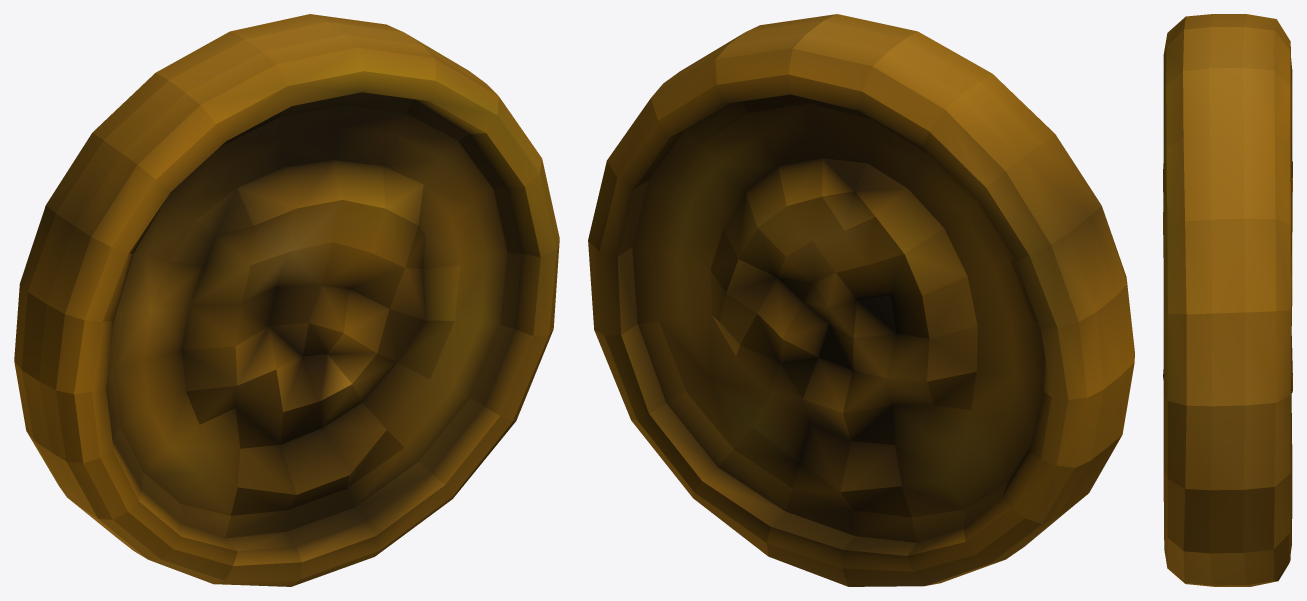
The model's file is coin.fbx.
3 renders of one model, left to right at view 1: azimuth 30°, elevation 25°; view 2: azimuth 150°, elevation 25°; view 3: azimuth 270°, elevation 25°, orthographic. The views are drawn at different scales.
Visible parts, largest first — view 1: Coin; view 2: Coin; view 3: Coin.
Part boxes in pixels (left/top/right/bottom): Coin: left=14, top=14, right=559, bottom=586; Coin: left=588, top=14, right=1134, bottom=586; Coin: left=1163, top=14, right=1292, bottom=586.
Size of the model in its own units: 402 by 403 by 91.08.
